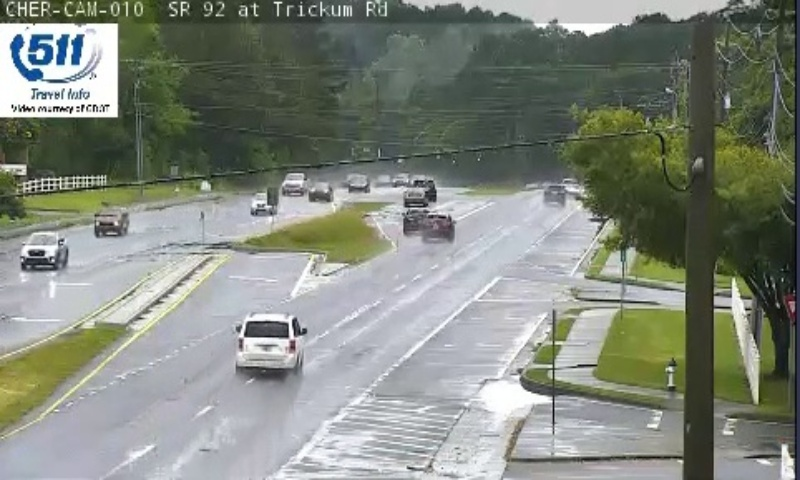car: (235, 312, 302, 369), (421, 211, 453, 240)
